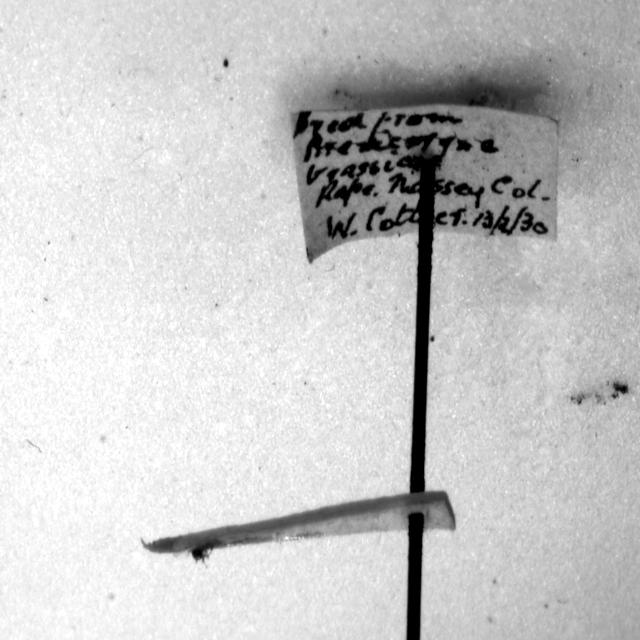hand_label: (291, 105, 558, 262)
